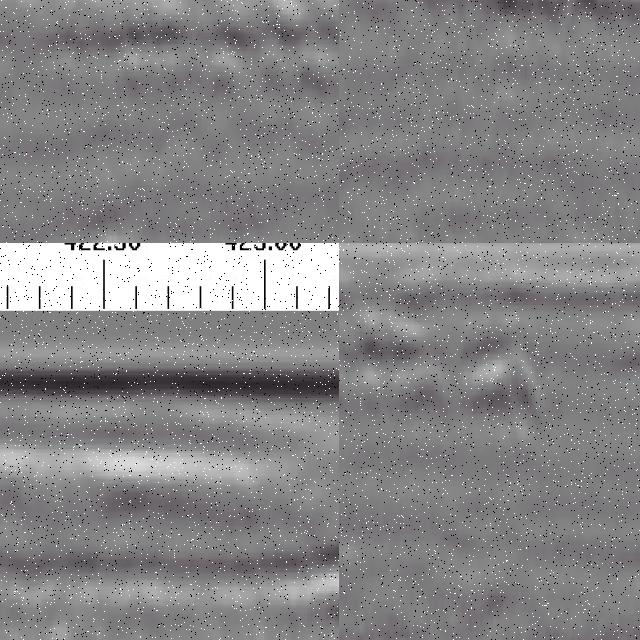loose: (340, 319, 550, 427), (84, 1, 340, 89), (340, 1, 640, 68)
